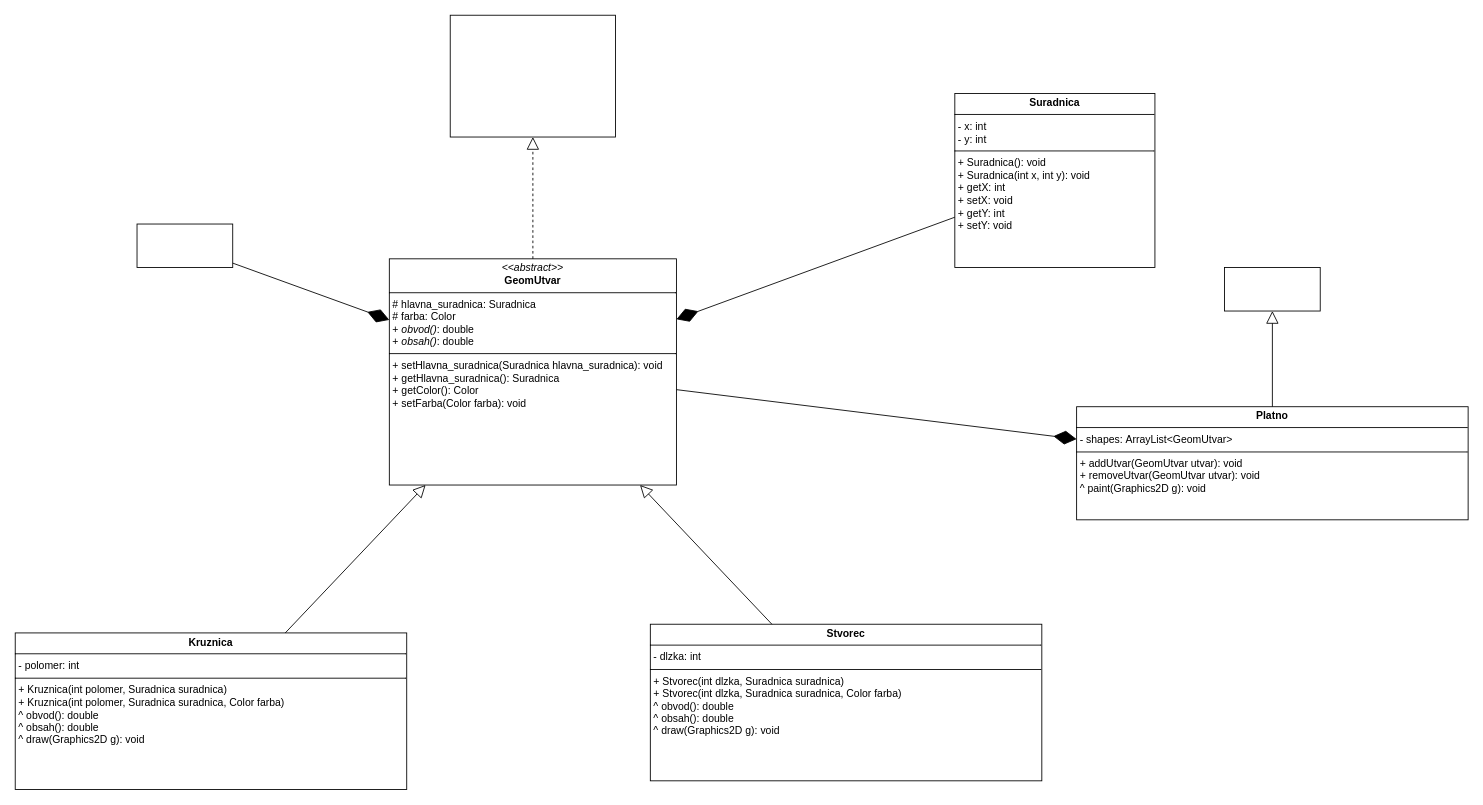
Image size: 1483x805. Some labels were removed from this diagram. The box of each missing label's shape, as (x1, y1, x2, y2) in pixels:
<<interface>> Vykreslitelny + draw(g: Graphics2D): void: (449, 14, 616, 137)
Color: (136, 223, 233, 268)
Panel: (1224, 267, 1320, 311)
